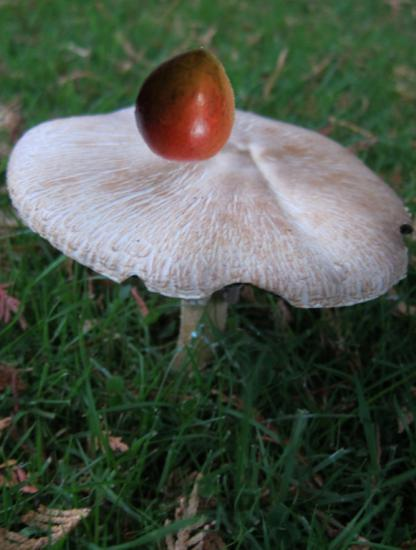Mango: (127, 45, 248, 166)
